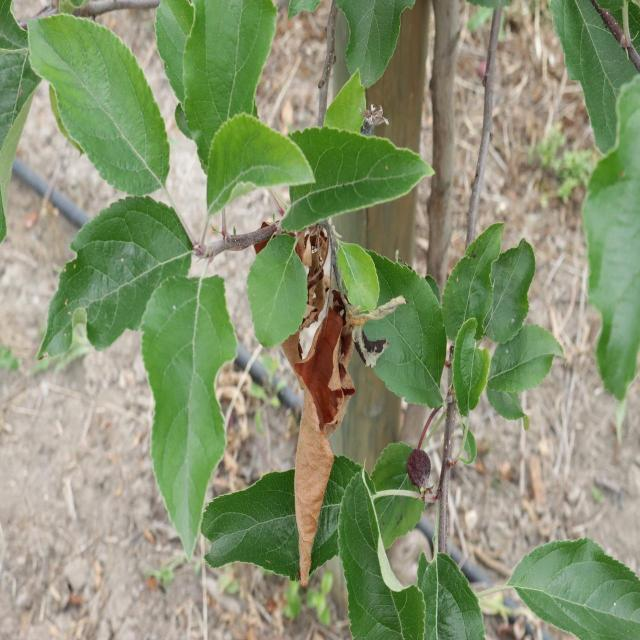-FireBlight-: (292, 204, 368, 428), (298, 399, 328, 582)
